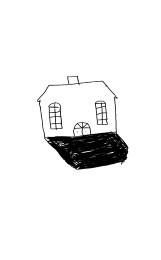chimney: (64, 72, 82, 89)
closed_window: (92, 99, 113, 126), (46, 101, 64, 131)
door: (72, 120, 93, 138)
shadow: (43, 130, 132, 173)
single_line_roof: (27, 80, 121, 102)
small_house: (1, 1, 161, 260)
wall: (37, 95, 119, 141)
